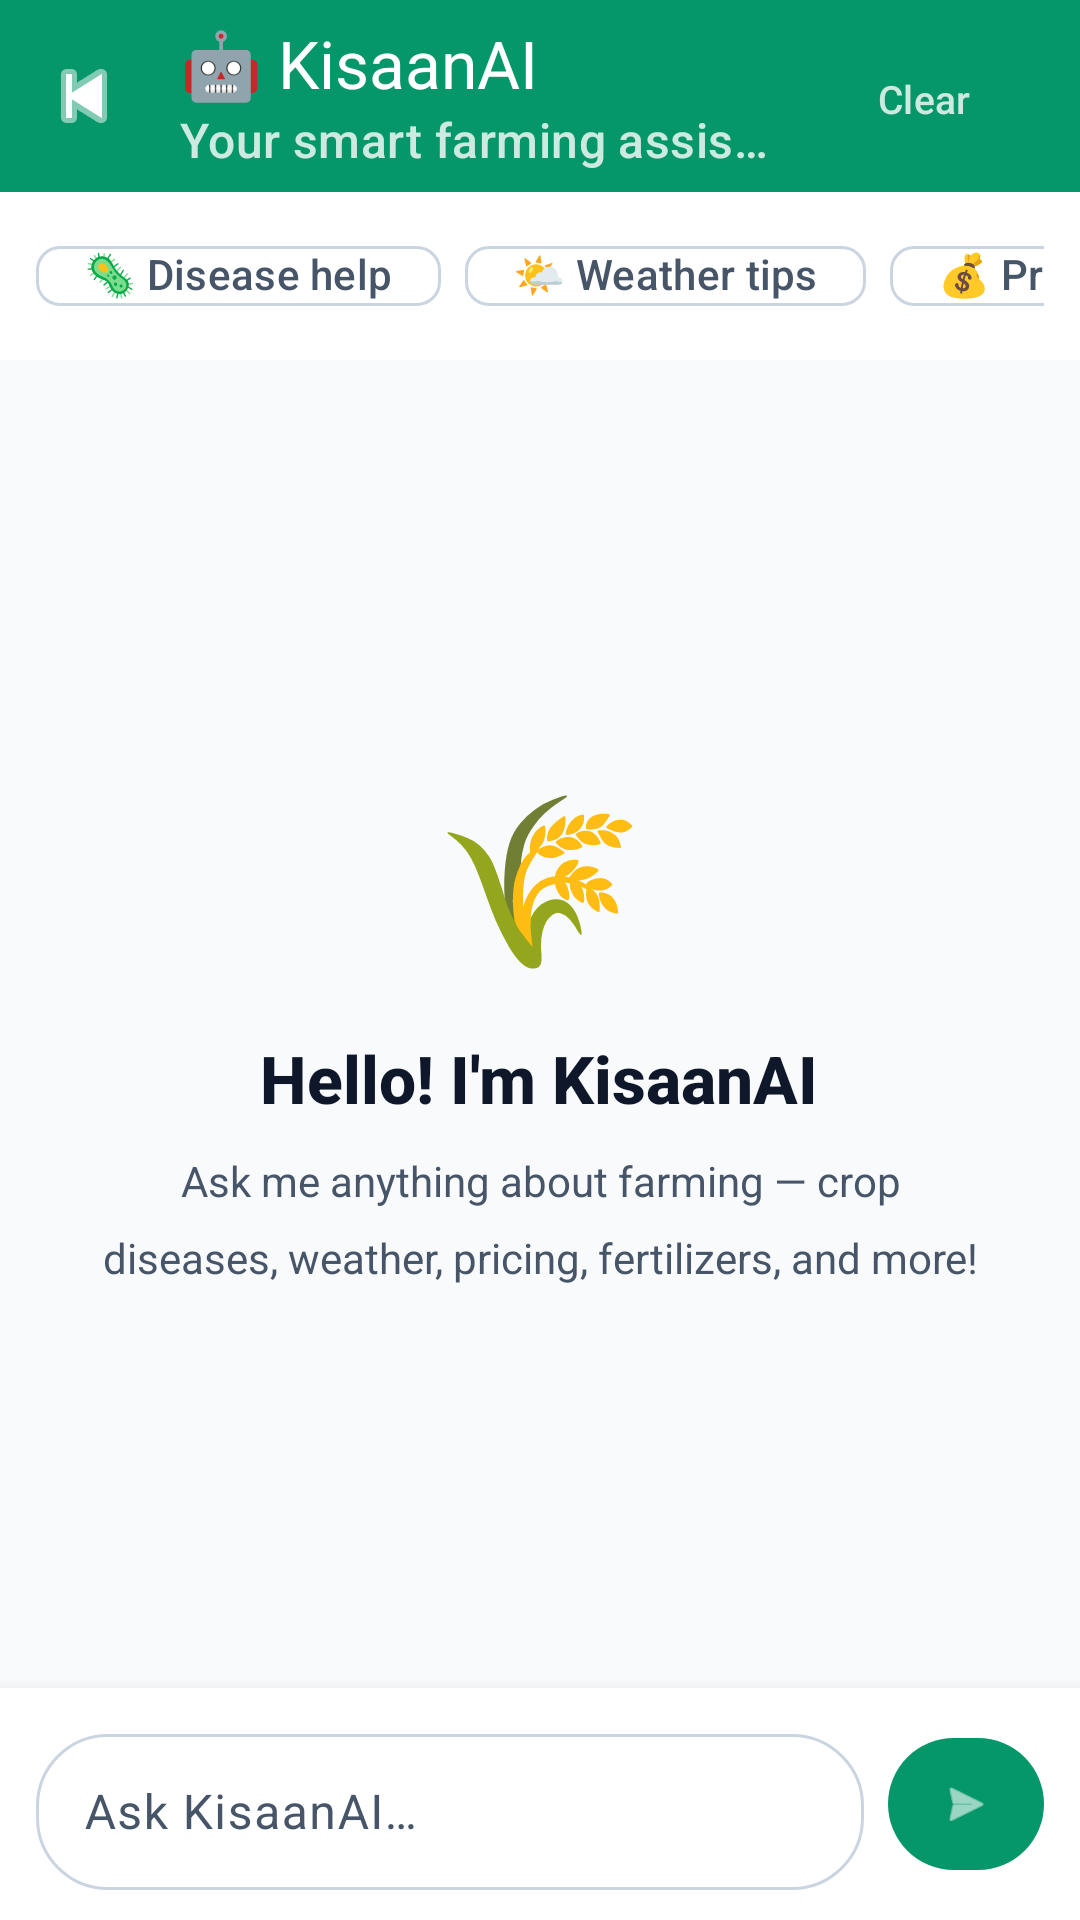

Named icons in this screenshot (1080 x 1920) and their bounding boxes, [x1,y1,x2,y2]:
send: [888,1738,1044,1870]
